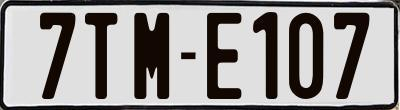0: (287, 10, 324, 101)
1: (251, 12, 277, 102)
7: (333, 11, 371, 100), (38, 11, 75, 99)
E: (204, 12, 243, 99)
M: (131, 10, 167, 99)
T: (84, 11, 118, 101)
